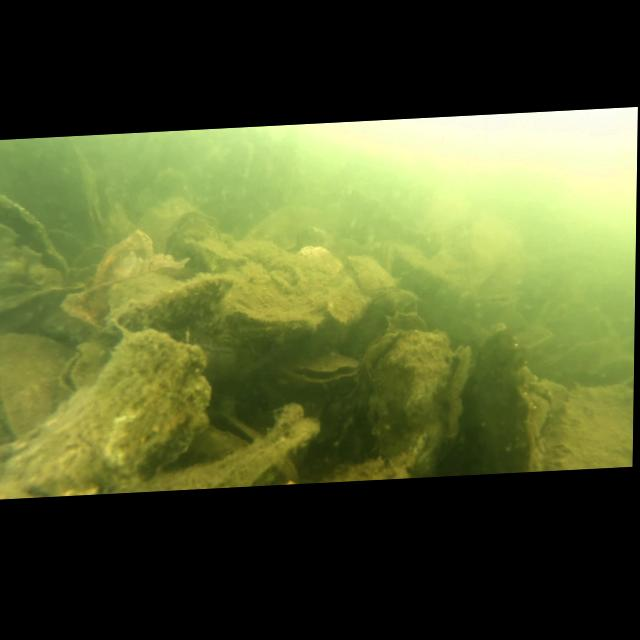Oyster-Closed: (208, 255, 365, 352), (0, 329, 79, 442)
Oyster-Indeterminate: (0, 325, 211, 500), (363, 323, 468, 481), (455, 324, 540, 476), (541, 383, 634, 472), (103, 277, 231, 333), (166, 208, 223, 275), (91, 228, 153, 285)
Oyster-Open: (201, 405, 299, 489), (0, 189, 71, 295), (277, 346, 362, 388), (57, 339, 116, 393)
